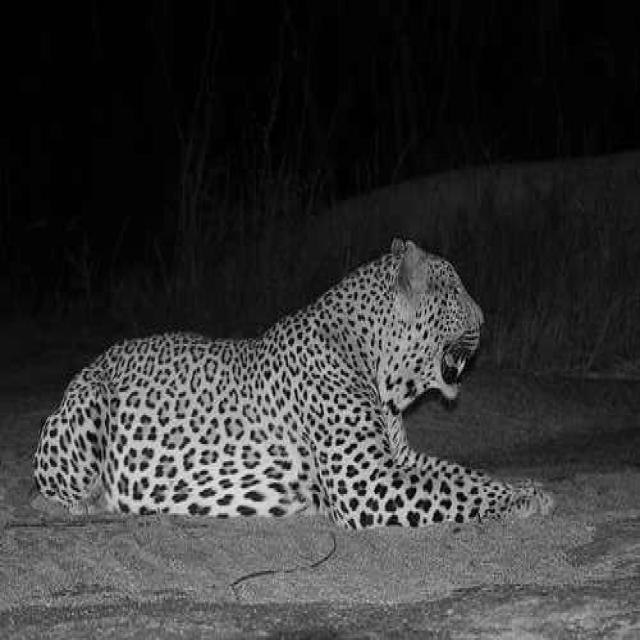Leopard: (31, 232, 556, 530)
